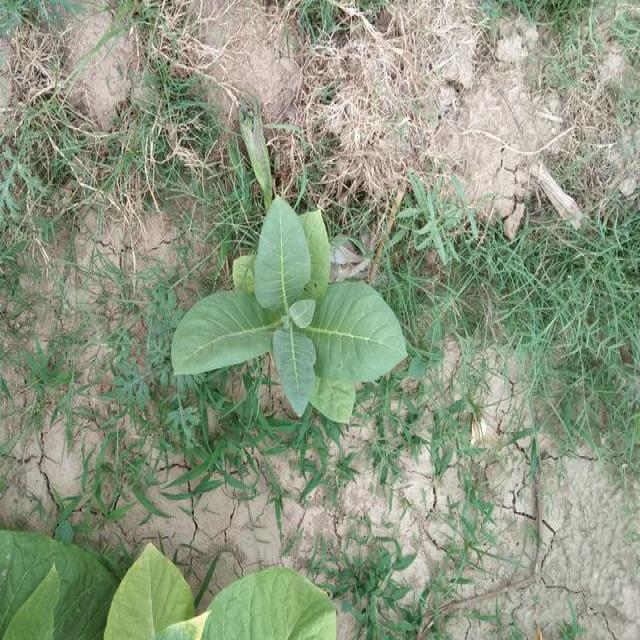crop: (164, 196, 416, 435)
